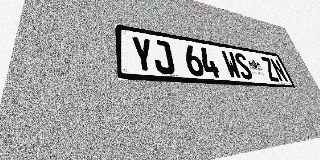4: (198, 46, 221, 78)
6: (182, 44, 206, 77)
J: (151, 39, 176, 75)
N: (269, 58, 289, 82)
S: (233, 52, 254, 80)
W: (220, 50, 243, 79)
Y: (130, 36, 156, 73)
Z: (260, 56, 280, 82)
